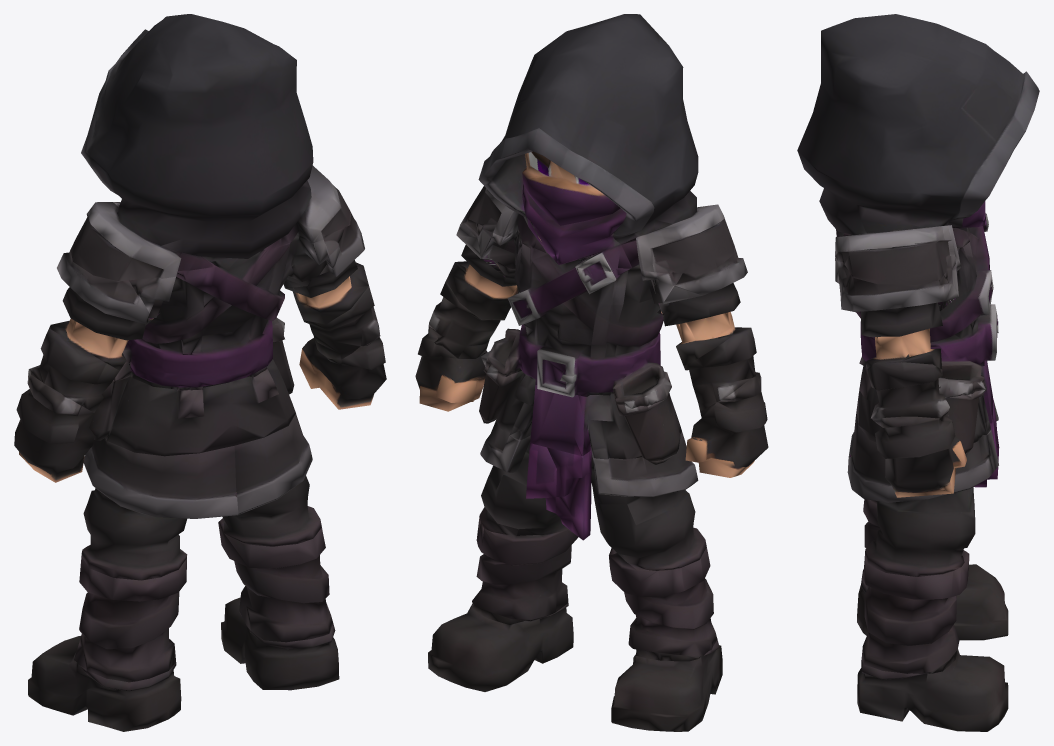
The model's file is assassin_male_r15.glb.
3 renders of one model, left to right at view 1: azimuth 30°, elevation 25°; view 2: azimuth 150°, elevation 25°; view 3: azimuth 270°, elevation 25°, orthographic. The views are drawn at different scales.
Parts seen in each view (by area): view 1: Hood, UpperTorso, LeftUpperLeg, LowerTorso, LeftLowerLeg, RightLowerLeg, RightUpperLeg, LeftFoot, LeftUpperArm, LeftHand, RightFoot, Head (+4 smaller); view 2: Hood, UpperTorso, LeftUpperLeg, LowerTorso, Head, LeftLowerLeg, RightFoot, RightLowerLeg, RightUpperLeg, LeftFoot, LeftHand, LeftUpperArm (+4 smaller); view 3: Hood, RightUpperLeg, RightLowerLeg, RightFoot, UpperTorso, RightUpperArm, RightHand, RightLowerArm, LeftFoot, LowerTorso, Head, LeftLowerLeg.
Boxes of the visible parts, box(x1,y1,x2,y2) form: Hood: box(70, 14, 350, 281); UpperTorso: box(113, 227, 344, 390); LeftUpperLeg: box(81, 437, 238, 580); LowerTorso: box(89, 340, 295, 456); LeftLowerLeg: box(74, 556, 186, 682); RightLowerLeg: box(218, 518, 333, 642); RightUpperLeg: box(222, 414, 321, 546); LeftFoot: box(28, 636, 181, 731); LeftUpperArm: box(49, 250, 149, 370); LeftHand: box(14, 373, 94, 482); RightFoot: box(221, 597, 339, 690); Head: box(86, 64, 340, 278); Hood: box(468, 14, 734, 274); UpperTorso: box(476, 223, 682, 408); LeftUpperLeg: box(547, 432, 706, 570); LowerTorso: box(479, 364, 681, 461); Head: box(485, 151, 724, 271); LeftLowerLeg: box(609, 547, 717, 661); RightFoot: box(428, 603, 573, 691); RightLowerLeg: box(472, 519, 578, 624); RightUpperLeg: box(479, 418, 567, 535); LeftFoot: box(611, 640, 722, 731); LeftHand: box(685, 372, 768, 477); LeftUpperArm: box(663, 244, 747, 365); Hood: box(797, 14, 1039, 284); RightUpperLeg: box(847, 412, 998, 576); RightLowerLeg: box(862, 550, 969, 673); RightFoot: box(857, 649, 1008, 731); UpperTorso: box(835, 213, 998, 397); RightUpperArm: box(840, 275, 958, 369); RightHand: box(872, 416, 966, 497); RightLowerArm: box(867, 362, 952, 422); LeftFoot: box(857, 564, 1008, 640); LowerTorso: box(856, 356, 993, 453); Head: box(835, 201, 986, 263); LeftLowerLeg: box(861, 499, 880, 589).
Size of the model in its own units: 0.5355 by 0.9791 by 0.3291.
1 material, 1 textured.
